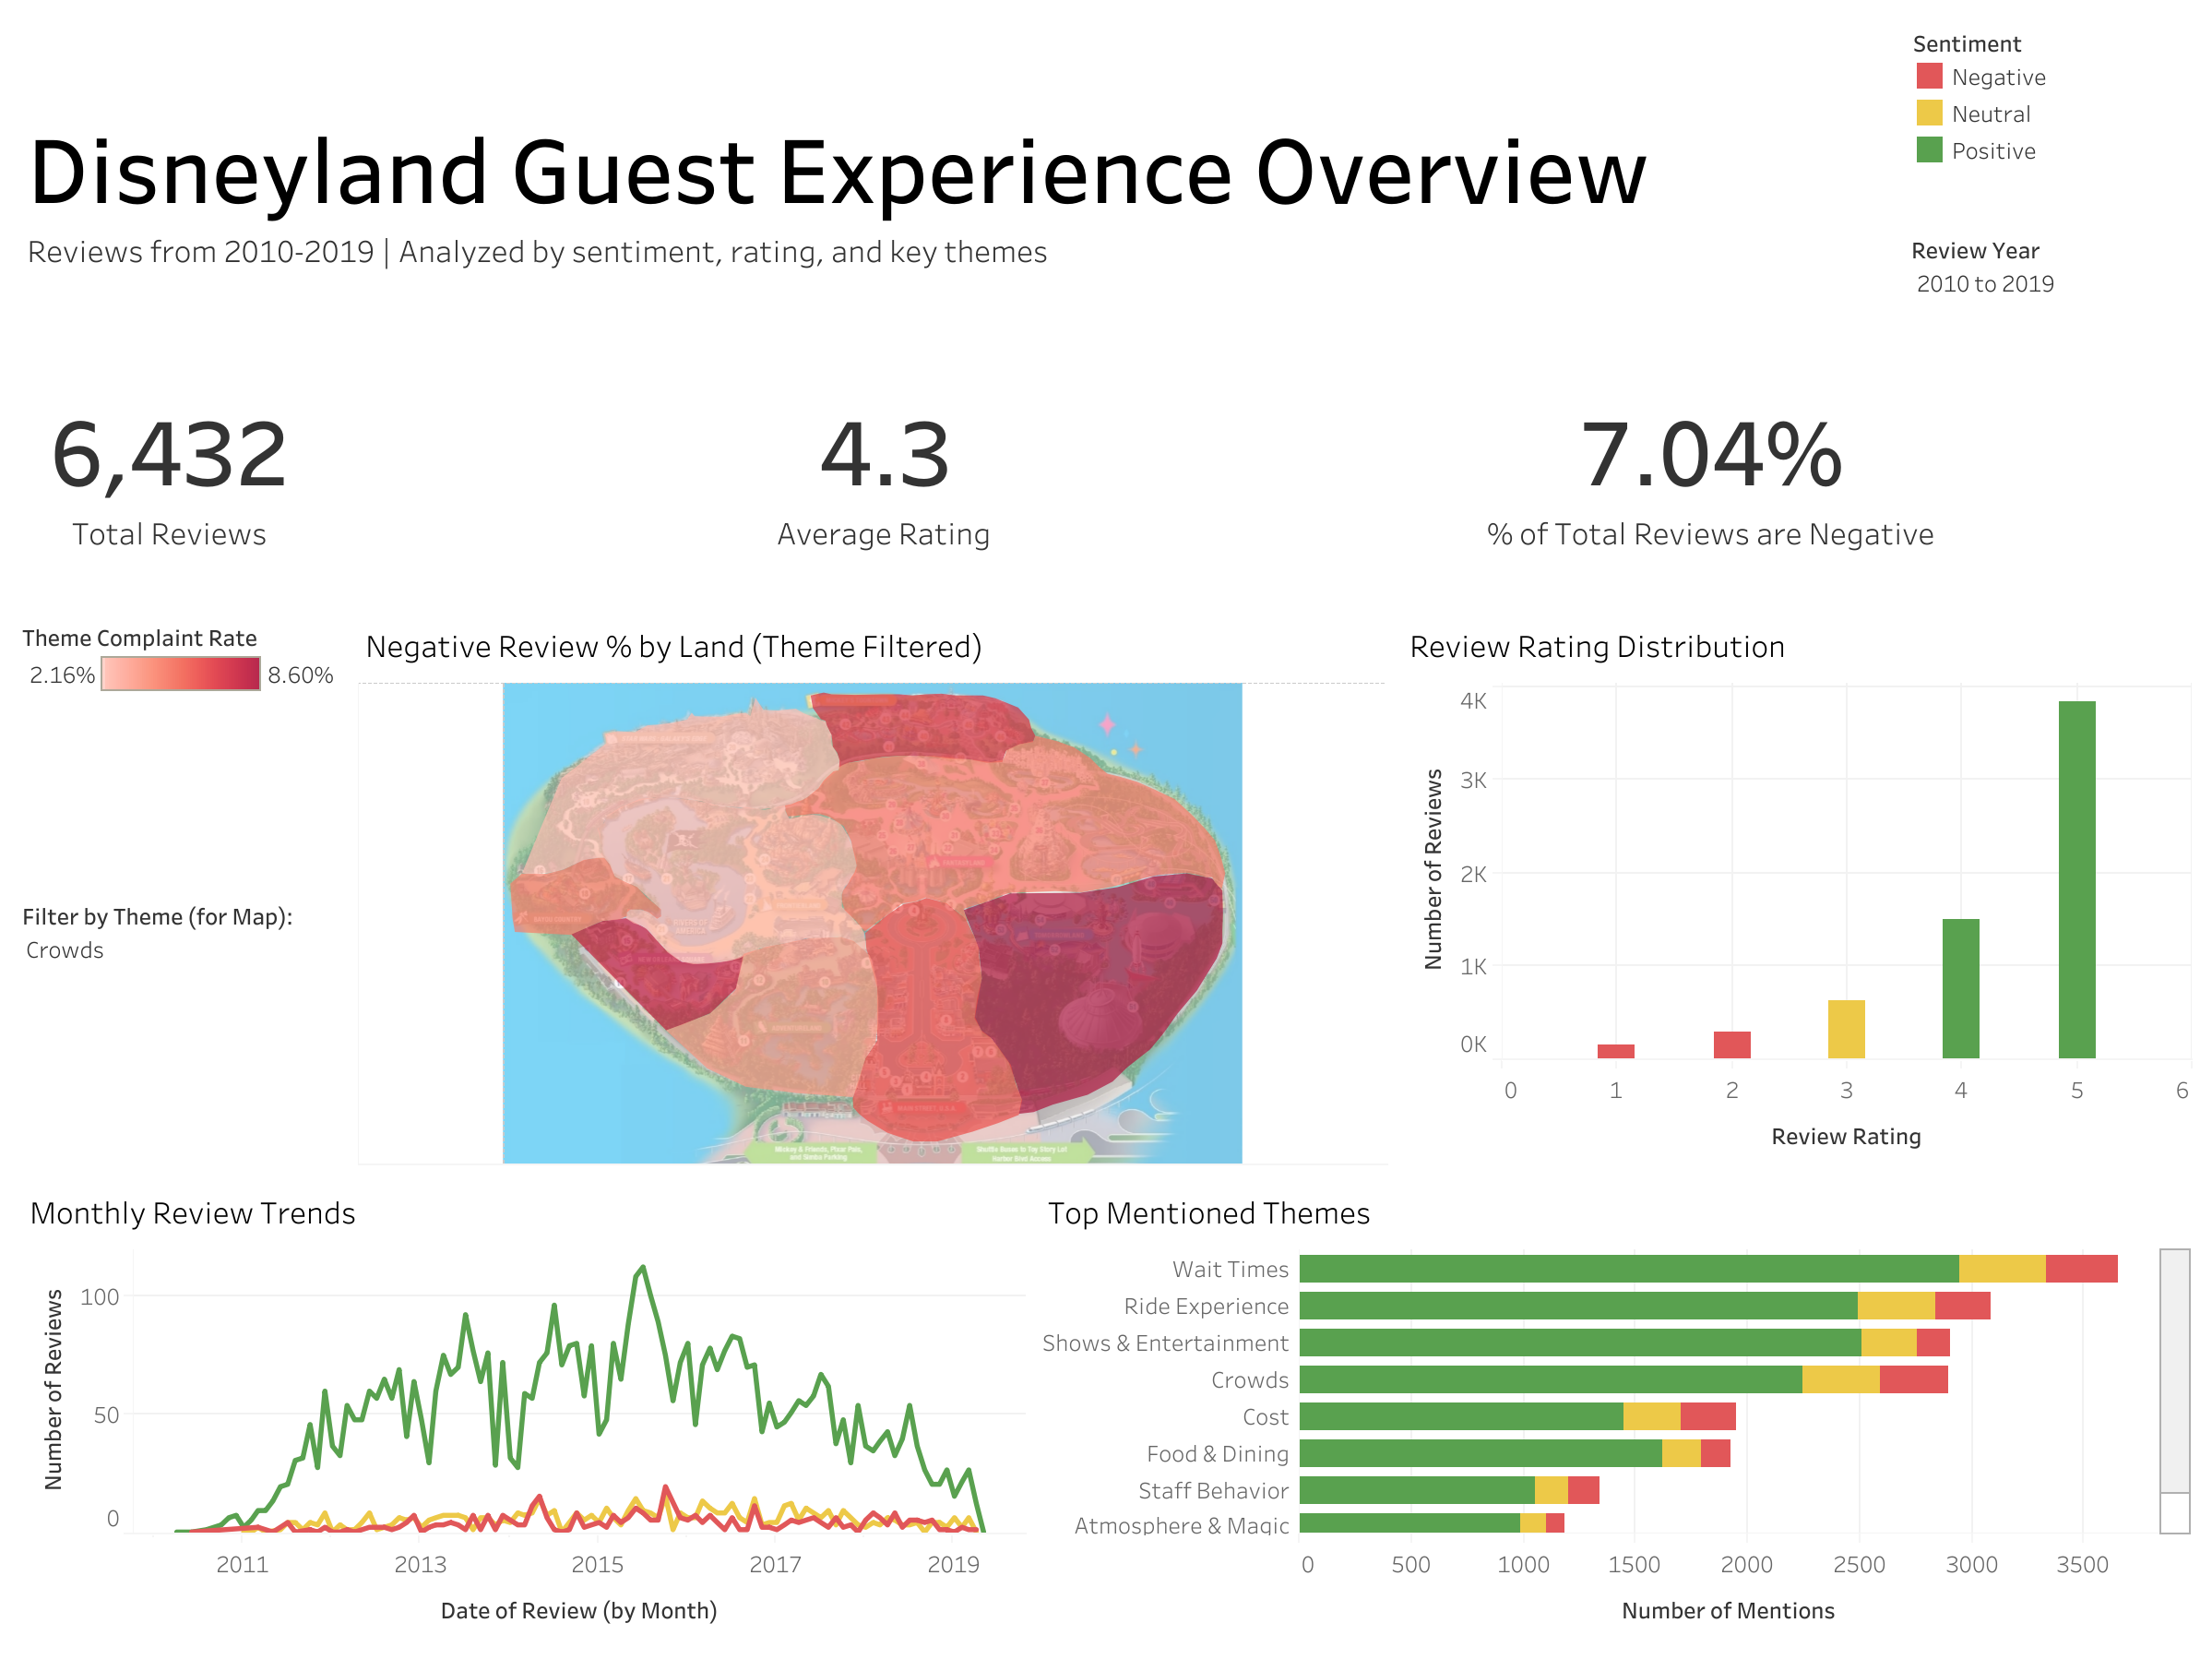

The dashboard page shown, as its layout file describes it:
{"tool":"tableau","page":{"name":"Disneyland Guest Experience","canvas":[1200,900],"ordinal":0},"visuals":[{"type":"text","box":[8,8,1024,188.3]},{"type":"legend","title":"Review Volume Over Time by Sentiment","param":"[federated.0jdlttf06a8mla1f0ukgg1rxgpls].[none:Sentiment:nk]","box":[1032,8,160,112.8]},{"type":"filter","title":"Review Rating Distribution","param":"[federated.0jdlttf06a8mla1f0ukgg1rxgpls].[none:Calculation_204139768011210752:qk","box":[1032,120.8,160,75.5]},{"type":"worksheet","title":"KPI - Total Reviews","mark":"Automatic","box":[18,206,388,112]},{"type":"worksheet","title":"KPI - Average Rating","mark":"Automatic","box":[406,206,388,112]},{"type":"worksheet","title":"KPI - Negative %","mark":"Automatic","box":[794,206,388,112]},{"type":"legend","title":"Negative Review % by Land (Theme Filtered)","param":"[federated.0jdlttf06a8mla1f0ukgg1rxgpls].[usr:Calculation_2896870131004112896:qk","box":[8,328,182,154]},{"type":"worksheet","title":"Negative Review % by Land (Theme Filtered)","mark":"Polygon","rows":["Y"],"cols":["X"],"box":[190,328.2,566,306.7]},{"type":"worksheet","title":"Review Rating Distribution","mark":"Bar","rows":["Review_ID"],"cols":["Rating"],"box":[756,328.2,436,306.7]},{"type":"parameter","param":"[Parameters].[Parameter 1]","box":[8,482,182,153]},{"type":"worksheet","title":"Review Volume Over Time by Sentiment","mark":"Line","rows":["Review_ID"],"cols":["Calculation_2922836197618421760"],"box":[8,634.9,552,257.1]},{"type":"worksheet","title":"Top Mentioned Themes","mark":"Bar","box":[560,634.9,632,257.1]}]}

Visuals, with their boxes in screenshot pixels (x1, y1, x2, y2), scaled from the page's 1200x900 canvas onto the 2212x1659 screenshot:
text: 15:15:1902:362
"Review Volume Over Time by Sentiment" legend: 1902:15:2197:222
"Review Rating Distribution" filter: 1902:222:2197:362
"KPI - Total Reviews" worksheet: 33:380:748:586
"KPI - Average Rating" worksheet: 748:380:1464:586
"KPI - Negative %" worksheet: 1464:380:2179:586
"Negative Review % by Land (Theme Filtered)" legend: 15:604:351:889
"Negative Review % by Land (Theme Filtered)" worksheet (Polygon marks): 351:605:1394:1170
"Review Rating Distribution" worksheet (Bar marks): 1394:605:2197:1170
parameter: 15:889:351:1171
"Review Volume Over Time by Sentiment" worksheet (Line marks): 15:1170:1032:1644
"Top Mentioned Themes" worksheet (Bar marks): 1032:1170:2197:1644
